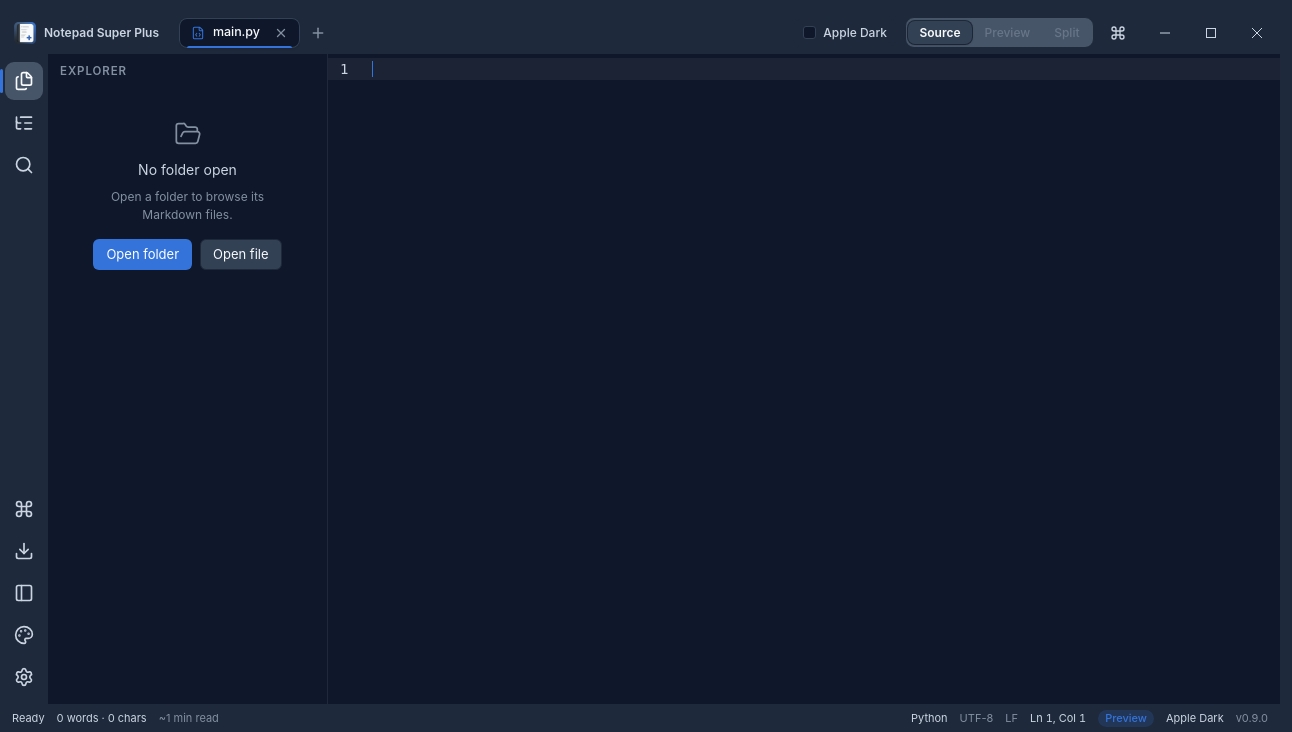
UI journeys › keeps a code file in Source and refuses to render it as Markdown
Check: the tab with class "segmented__item" showing "Preview" is disabled, box [974,21,1041,44]
Check: the tab with class "segmented__item" showing "Split" is disabled, box [1043,21,1090,44]
Click the button named "new file" at (318, 32), box [304,18,332,46]
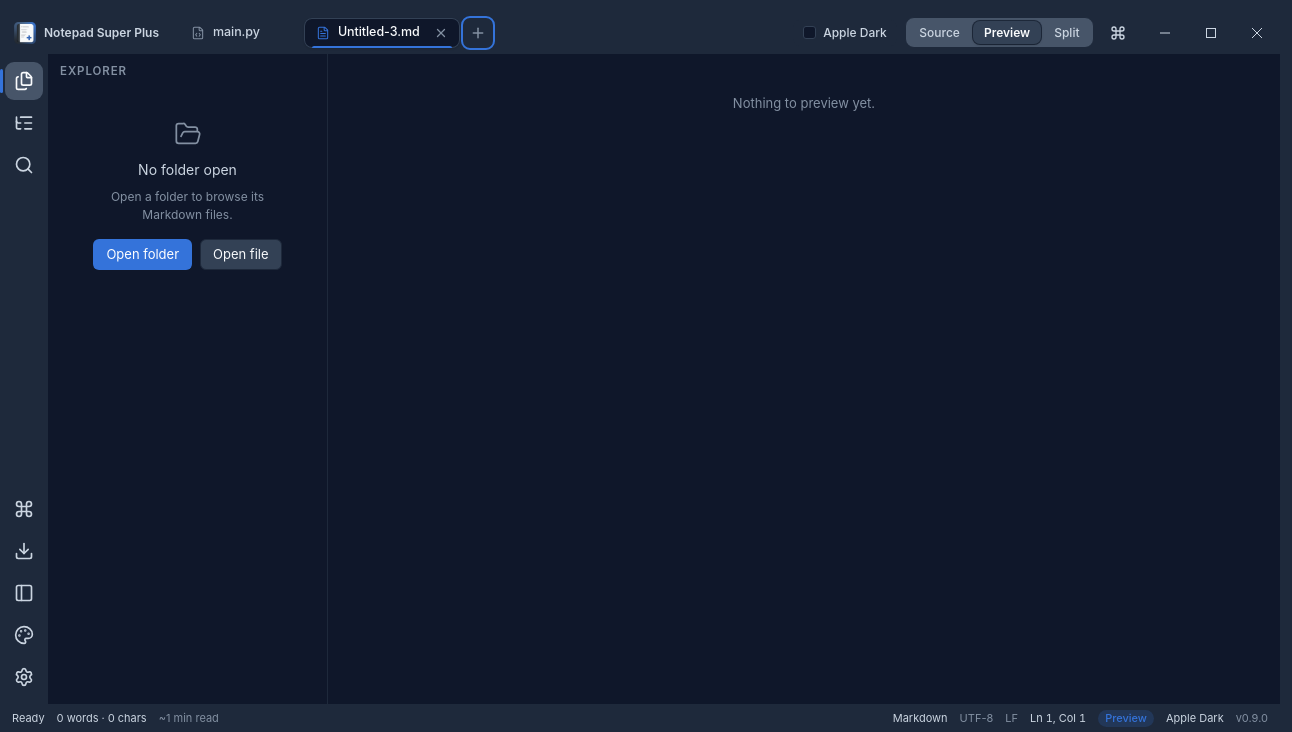
Check: the element showing "Nothing to preview yet." is shown
Check: the tab with class "segmented__item" showing "Preview" is enabled, box [973,21,1041,44]
